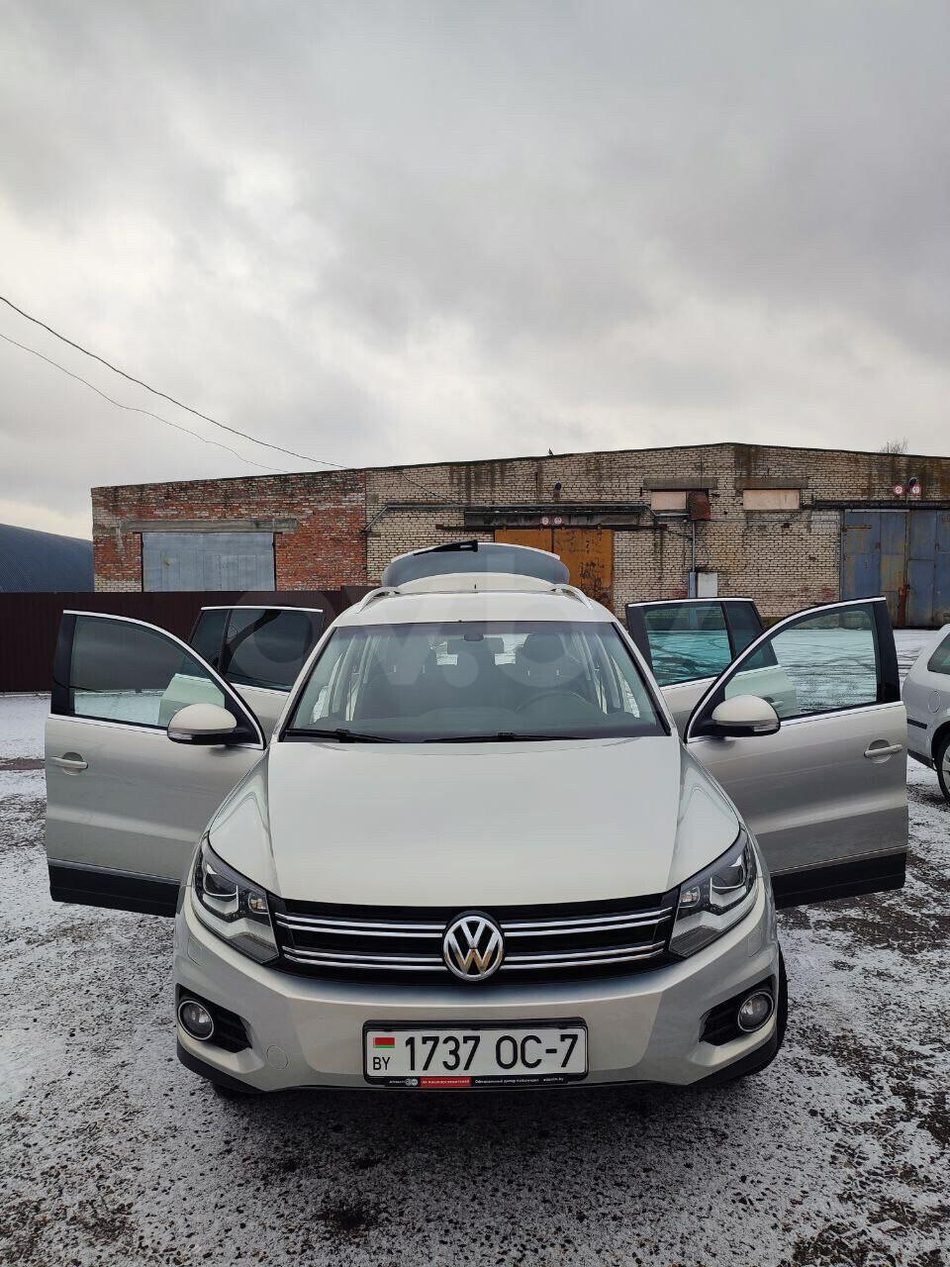Tiguan_2011-2018: (45, 568, 917, 1130)
